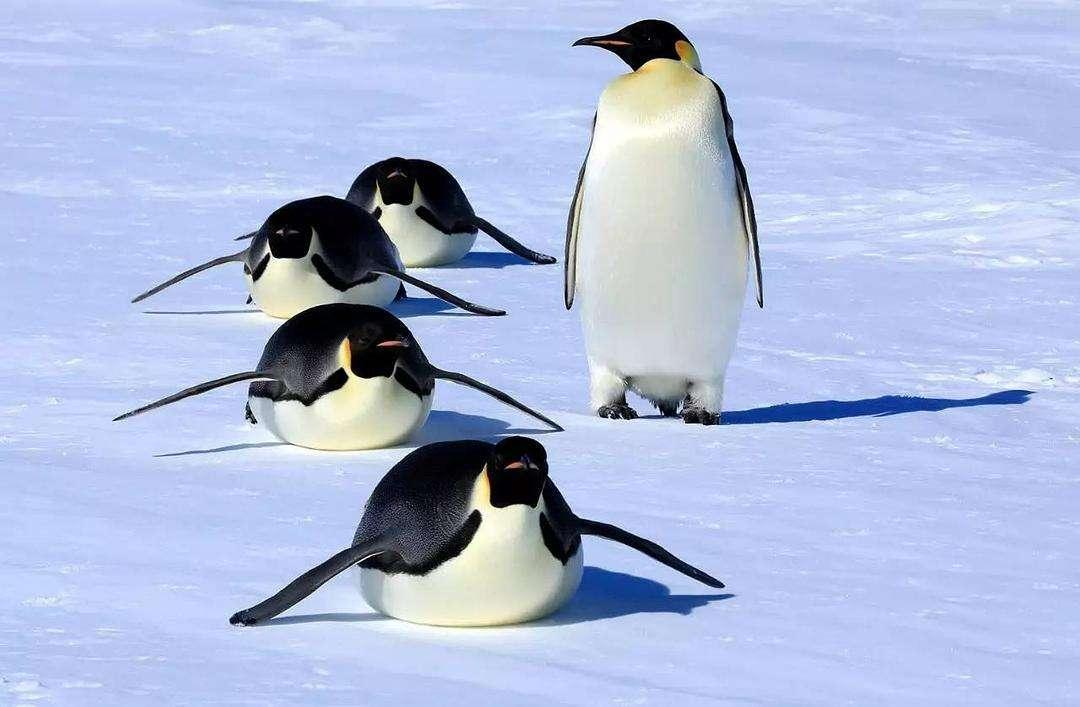Penguin: (230, 437, 723, 626), (565, 19, 763, 422), (116, 304, 561, 449), (135, 196, 504, 317), (346, 155, 554, 267)
